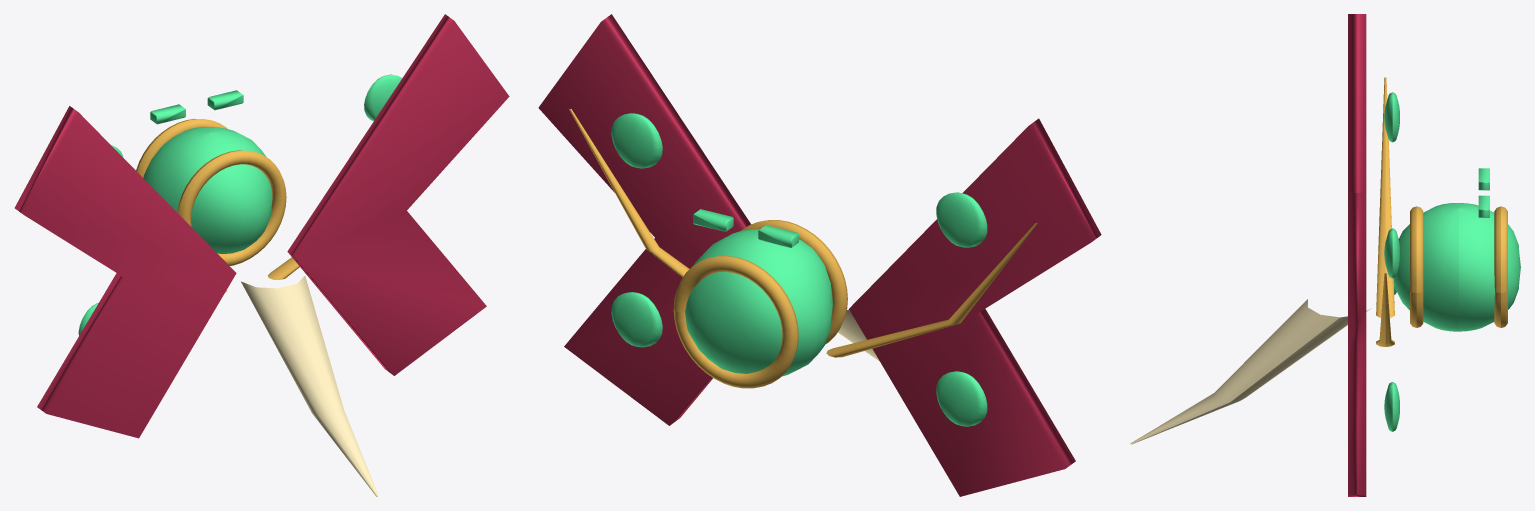
File: creature_0_4.glb
The picture shows the model from 3 angles, left to right: view 1: azimuth 30°, elevation 25°; view 2: azimuth 150°, elevation 25°; view 3: azimuth 270°, elevation 25°; orthographic projection. The views are drawn at different scales.
Parts seen in each view (by area): view 1: Wing (×2), GlassCore, Tail, GiltOrbRim (×2), FalseEye; view 2: Wing (×2), GlassCore, FalseEye (×4), GiltOrbRim (×2), WingVein (×2), EyeSlit (×2); view 3: GlassCore, Wing (×2), Tail, GiltOrbRim (×2), WingVein (×2), FalseEye (×3).
Boxes of the visible parts, box(x1,y1,x2,y2) form: Wing (×2): box(14, 14, 509, 438); GlassCore: box(143, 127, 272, 253); Tail: box(241, 276, 378, 496); GiltOrbRim (×2): box(136, 118, 286, 265); FalseEye: box(364, 74, 402, 121); Wing (×2): box(538, 14, 1101, 496); GlassCore: box(685, 229, 832, 376); FalseEye (×4): box(611, 113, 987, 426); GiltOrbRim (×2): box(673, 220, 847, 388); WingVein (×2): box(569, 109, 1037, 357); EyeSlit (×2): box(693, 209, 798, 247); GlassCore: box(1393, 203, 1520, 331); Wing (×2): box(1348, 14, 1366, 496); Tail: box(1130, 299, 1371, 444); GiltOrbRim (×2): box(1410, 206, 1507, 327); WingVein (×2): box(1376, 77, 1394, 346); FalseEye (×3): box(1384, 92, 1399, 431).
Size of the model in its own units: 1.94 by 1.33 by 1.38.
